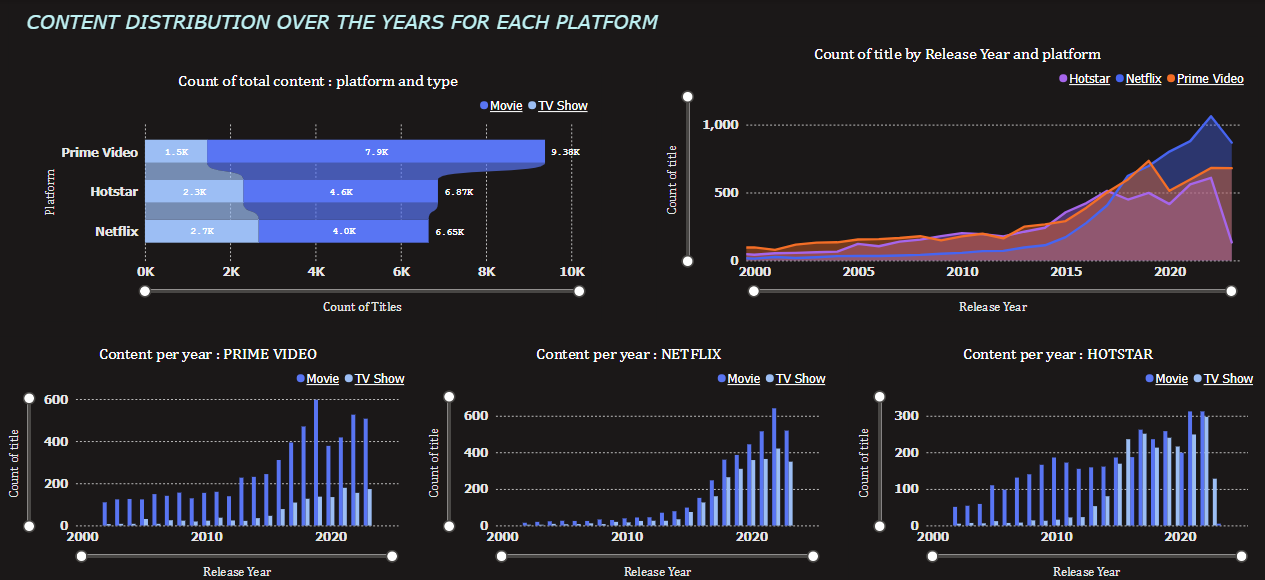

What the dashboard file says about the page in this screenshot:
{"tool":"powerbi","page":{"name":"Page 1","canvas":[1600,740],"ordinal":0},"visuals":[{"type":"clusteredColumnChart","title":"Content per year : HOTSTAR","fields":{"Category":["all_contents.Release Year"],"Series":["all_contents.type"],"Y":["CountNonNull(all_contents.title)"]},"box":[1072.4,425,528,315.5],"z":0},{"type":"clusteredColumnChart","title":"Content per year : PRIME VIDEO","fields":{"Category":["all_contents.Release Year"],"Series":["all_contents.type"],"Y":["CountNonNull(all_contents.title)"]},"box":[0,425,530,315.5],"z":1000},{"type":"barChart","title":"Count of total content : platform and type","fields":{"Category":["all_contents.platform"],"Y":["CountNonNull(all_contents.title)"],"Series":["all_contents.type"]},"box":[45.8,81.7,716,325.3],"z":2000},{"type":"clusteredColumnChart","title":"Content per year : NETFLIX","fields":{"Category":["all_contents.Release Year"],"Series":["all_contents.type"],"Y":["CountNonNull(all_contents.title)"]},"box":[529.7,425,531.3,315.5],"z":3000},{"type":"textbox","box":[13.1,0,841.9,93.2],"z":4000},{"type":"lineChart","fields":{"Category":["all_contents.Release Year"],"Y":["CountNonNull(all_contents.title)"],"Series":["all_contents.platform"]},"box":[830.5,47.4,758.5,359.7],"z":5000}]}

Visuals, with their boxes in screenshot pixels (x1, y1, x2, y2), scaled from the page's 1600x740 canvas onto the 1265x580 screenshot:
"Content per year : HOTSTAR" clusteredColumnChart: bbox(848, 333, 1264, 579)
"Content per year : PRIME VIDEO" clusteredColumnChart: bbox(0, 333, 419, 579)
"Count of total content : platform and type" barChart: bbox(36, 64, 602, 319)
"Content per year : NETFLIX" clusteredColumnChart: bbox(419, 333, 839, 579)
textbox: bbox(10, 0, 676, 73)
lineChart - all_contents.Release Year x CountNonNull(all_contents.title): bbox(657, 37, 1256, 319)
